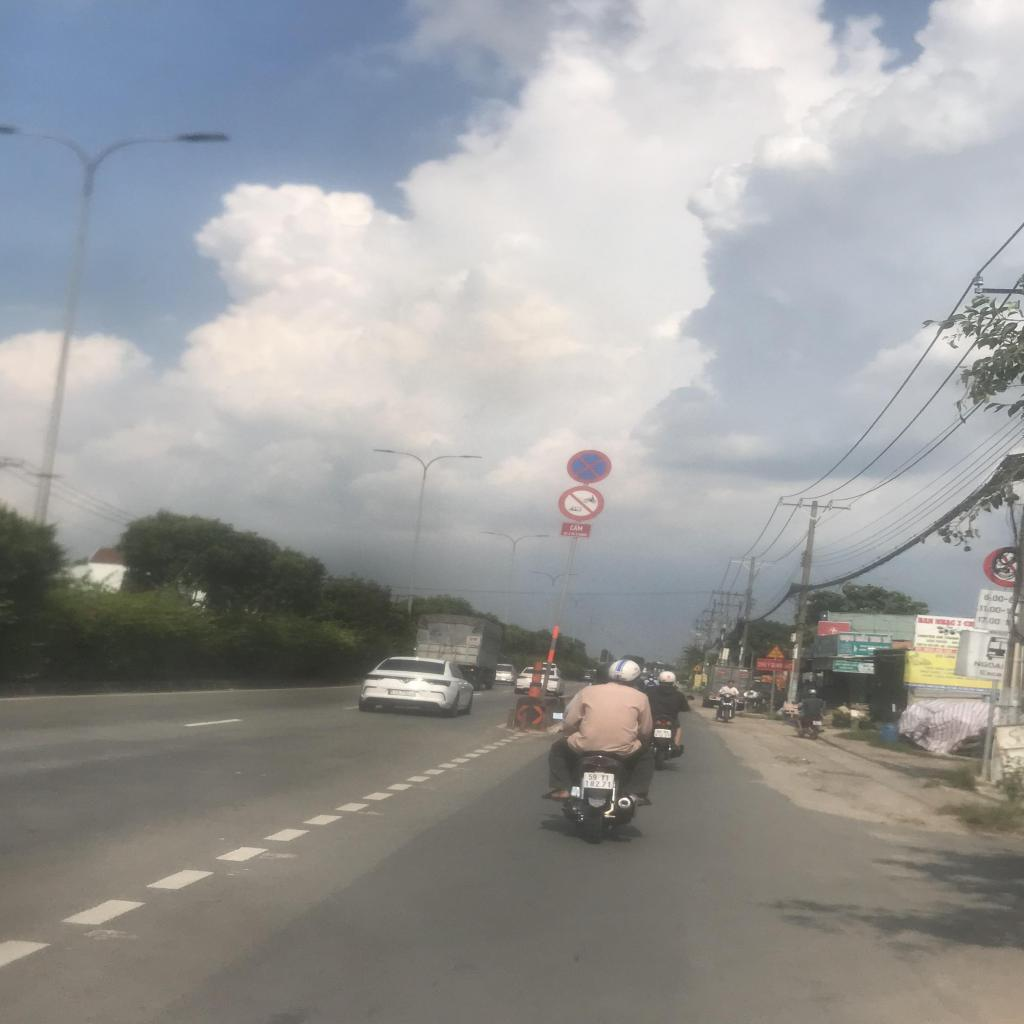cam_dung_xe_va_do_xe: (566, 449, 612, 484)
cam_xe_2_banh_va_xe_3_banh_co_dong_co: (558, 486, 604, 521)
di_cham: (765, 644, 785, 659)
giao_nhau_voi_duong_khong_uu_tien: (692, 664, 702, 670)
